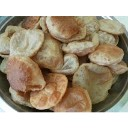poori: (75, 63, 112, 103), (7, 58, 46, 92), (31, 73, 68, 108), (11, 28, 44, 59), (46, 15, 86, 39), (36, 35, 64, 69), (59, 32, 99, 54), (90, 44, 125, 66), (98, 16, 126, 36)
